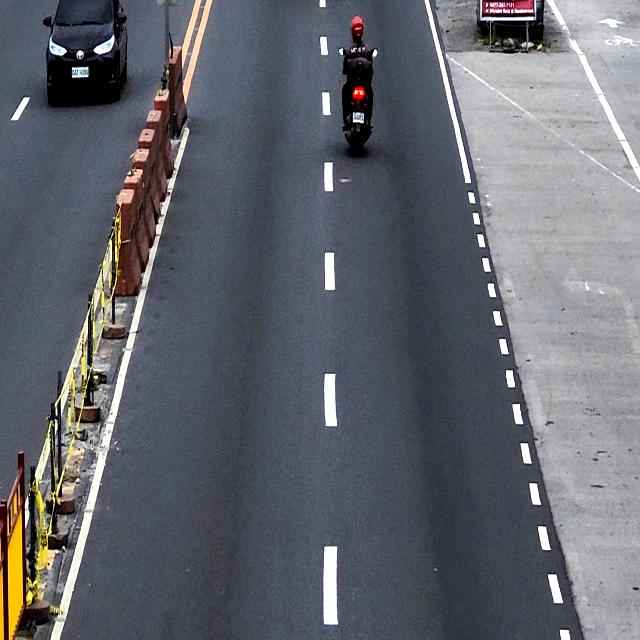License-Plate: (352, 112, 364, 124)
Motorcycle: (340, 45, 377, 154)
